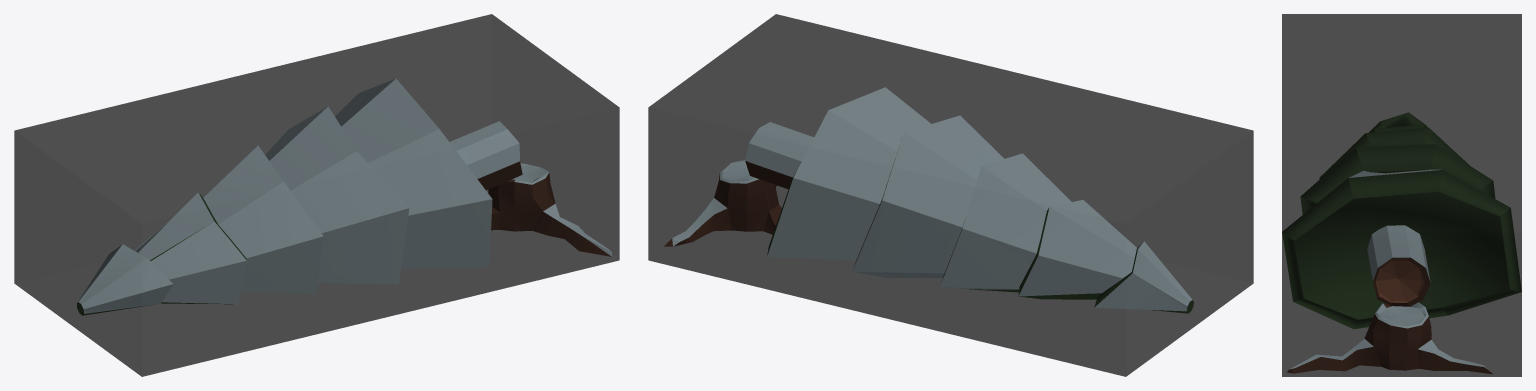
Rendered from BrokenTree_Snow.fbx.
The picture shows the model from 3 angles, left to right: view 1: azimuth 30°, elevation 25°; view 2: azimuth 150°, elevation 25°; view 3: azimuth 270°, elevation 25°; orthographic projection. The views are drawn at different scales.
Parts seen in each view (by area): view 1: BrokenTree_Snow_BBox, BrokenTree_Snow; view 2: BrokenTree_Snow_BBox, BrokenTree_Snow; view 3: BrokenTree_Snow_BBox, BrokenTree_Snow.
Boxes of the visible parts, bbox=[...] form: BrokenTree_Snow_BBox: bbox=[14, 14, 619, 376]; BrokenTree_Snow: bbox=[77, 79, 612, 315]; BrokenTree_Snow_BBox: bbox=[648, 14, 1253, 376]; BrokenTree_Snow: bbox=[664, 87, 1193, 313]; BrokenTree_Snow_BBox: bbox=[1282, 14, 1521, 376]; BrokenTree_Snow: bbox=[1282, 112, 1521, 374].
Bounding box in the file's own units: 27.31 × 8.36 × 12.64.
Materials: 2 (1 with a texture image).
